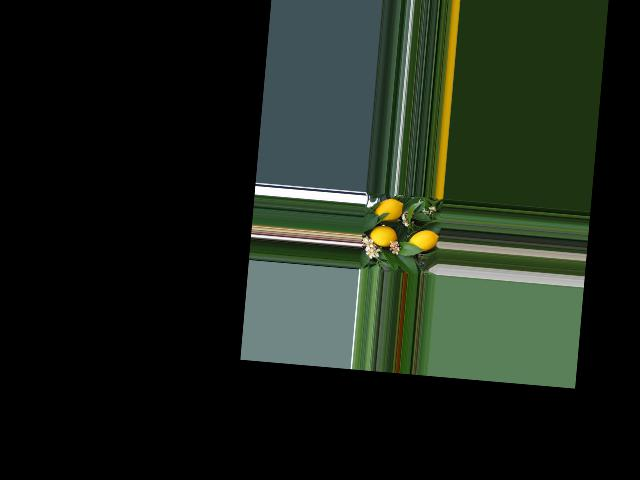lemon: (404, 227, 438, 257)
